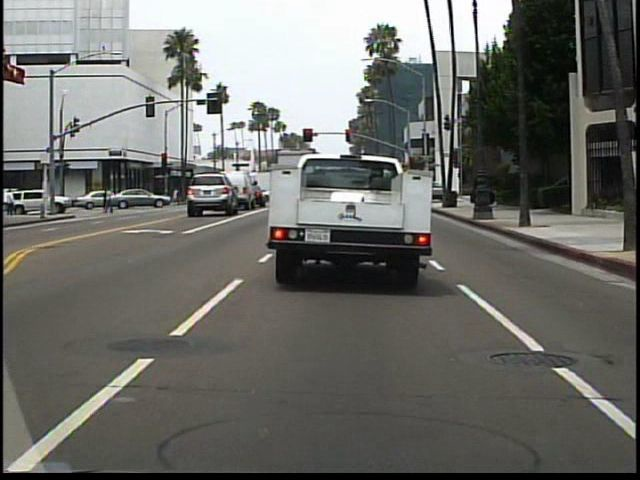person: (5, 183, 20, 217)
